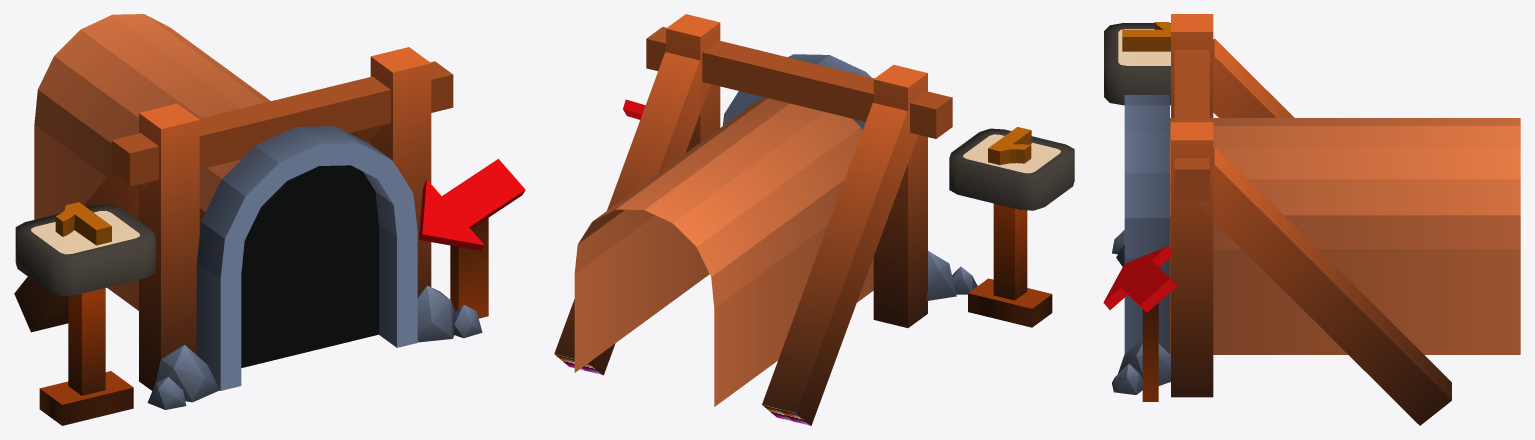
Rendered from Red_1.fbx.
The picture shows the model from 3 angles, left to right: view 1: azimuth 30°, elevation 25°; view 2: azimuth 150°, elevation 25°; view 3: azimuth 270°, elevation 25°; orthographic projection. The views are drawn at different scales.
Parts seen in each view (by area): view 1: tunel, tunel.001, Text.001; view 2: tunel, Text.001; view 3: tunel, tunel.001, Text.001.
Boxes of the visible parts, x1,y1,x2,y2 form: tunel: (14,14,488,425); tunel.001: (419,159,525,250); Text.001: (55,202,111,245); tunel: (554,14,1074,425); Text.001: (988,127,1031,164); tunel: (1104,14,1520,425); tunel.001: (1103,246,1176,312); Text.001: (1122,22,1170,51).
Bounding box in the file's own units: 796 × 468 × 619.
